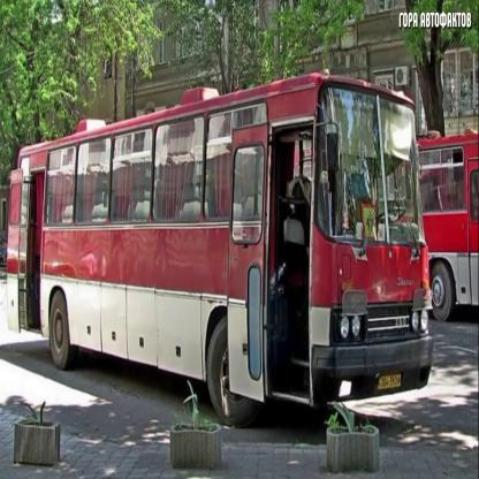bus: (7, 67, 435, 420), (417, 122, 479, 328)
